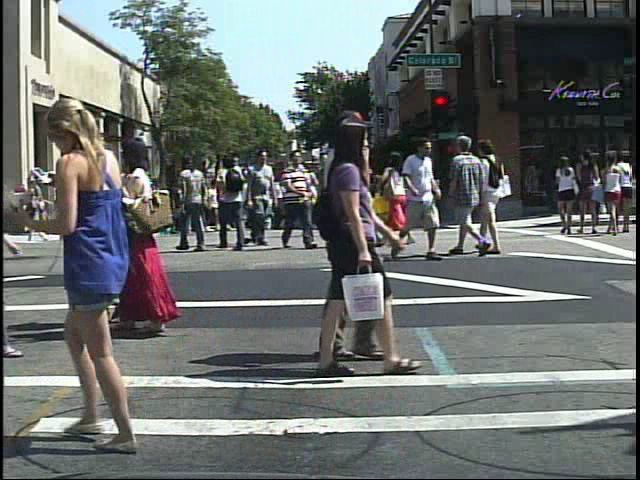person: (51, 84, 185, 461), (283, 117, 400, 380), (117, 134, 196, 343), (342, 106, 402, 367), (97, 132, 141, 334), (472, 134, 519, 265), (400, 136, 447, 263), (279, 144, 326, 253), (449, 130, 485, 257), (215, 151, 255, 258), (242, 147, 280, 255), (379, 144, 418, 249), (214, 150, 251, 253), (176, 151, 212, 255), (554, 152, 583, 236), (188, 170, 208, 239), (66, 182, 86, 232), (368, 137, 369, 251)
